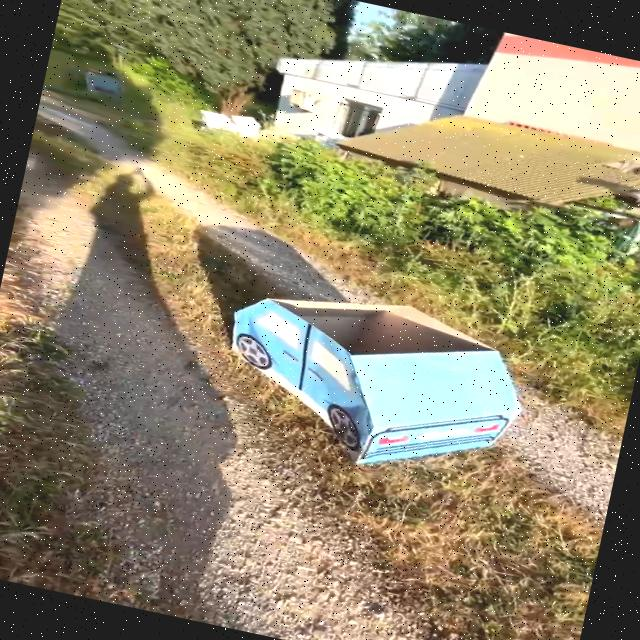blue_car: (120, 226, 596, 533)
